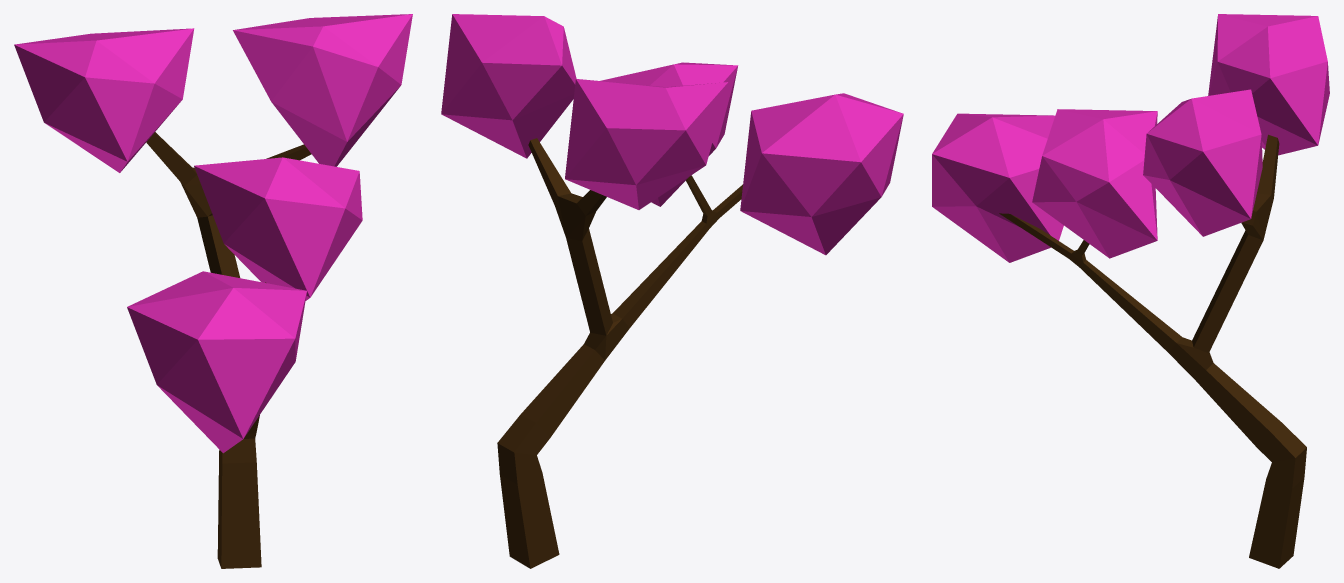
Rendered from tree.glb.
The picture shows the model from 3 angles, left to right: view 1: azimuth 30°, elevation 25°; view 2: azimuth 150°, elevation 25°; view 3: azimuth 270°, elevation 25°; orthographic projection. The views are drawn at different scales.
Parts seen in each view (by area): view 1: Icosphere, Icosphere.001, Icosphere.002, Icosphere.003, Cube; view 2: Icosphere, Cube, Icosphere.002, Icosphere.001, Icosphere.003; view 3: Cube, Icosphere.003, Icosphere, Icosphere.001, Icosphere.002.
Boxes of the visible parts, x1=… form: Icosphere: x1=127, y1=271, x2=306, y2=453; Icosphere.001: x1=233, y1=14, x2=412, y2=166; Icosphere.002: x1=14, y1=28, x2=194, y2=172; Icosphere.003: x1=194, y1=157, x2=362, y2=300; Cube: x1=146, y1=132, x2=311, y2=568; Icosphere: x1=740, y1=93, x2=903, y2=255; Cube: x1=497, y1=138, x2=742, y2=568; Icosphere.002: x1=565, y1=79, x2=728, y2=209; Icosphere.001: x1=441, y1=14, x2=576, y2=158; Icosphere.003: x1=600, y1=62, x2=738, y2=206; Cube: x1=999, y1=134, x2=1306, y2=568; Icosphere.003: x1=1032, y1=109, x2=1157, y2=258; Icosphere: x1=932, y1=113, x2=1063, y2=262; Icosphere.001: x1=1143, y1=89, x2=1262, y2=236; Icosphere.002: x1=1208, y1=14, x2=1329, y2=155.
Size of the model in its own units: 2.3 by 3.33 by 2.52.
